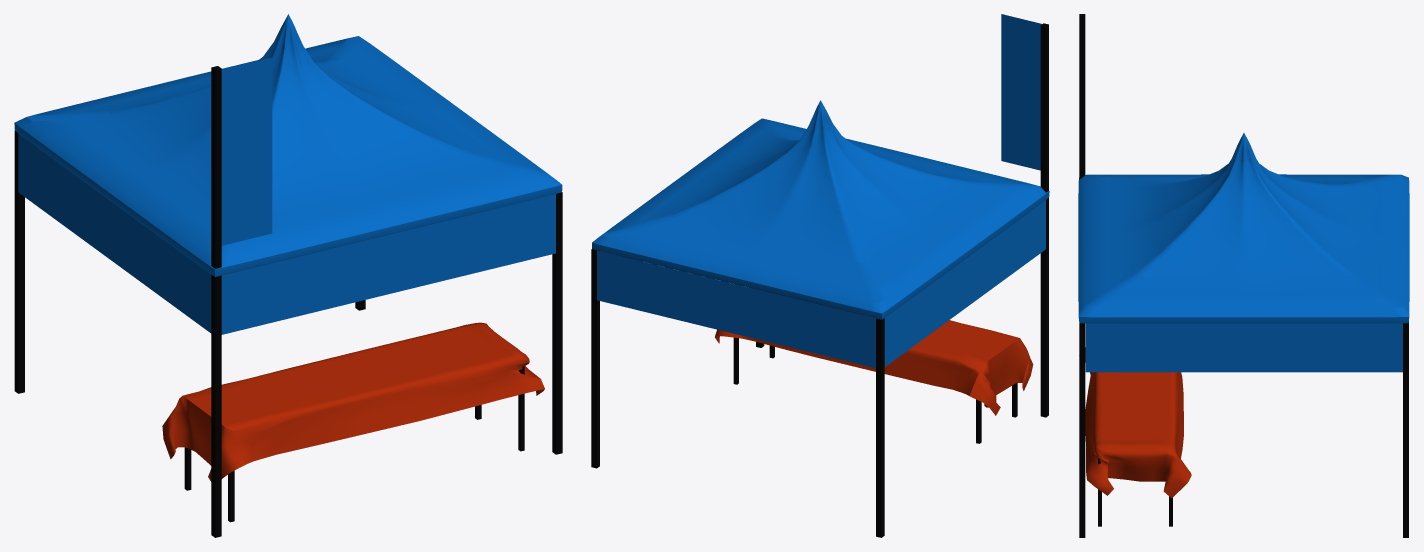
Rendered from Tent.fbx.
3 renders of one model, left to right at view 1: azimuth 30°, elevation 25°; view 2: azimuth 150°, elevation 25°; view 3: azimuth 270°, elevation 25°, orthographic. The views are drawn at different scales.
Visible parts, largest first — view 1: Object_82, Retopo_Plane.004, Plane.005, Cube.004; view 2: Object_82, Retopo_Plane.004, Plane.005, Cube.004; view 3: Object_82, Retopo_Plane.004, Plane.005.
Boxes of the visible parts, x1=… form: Object_82: x1=14, y1=14, x2=562, y2=537; Retopo_Plane.004: x1=162, y1=322, x2=544, y2=481; Plane.005: x1=211, y1=57, x2=272, y2=268; Cube.004: x1=184, y1=366, x2=524, y2=522; Object_82: x1=591, y1=100, x2=1049, y2=537; Retopo_Plane.004: x1=715, y1=316, x2=1033, y2=415; Plane.005: x1=1001, y1=14, x2=1048, y2=192; Cube.004: x1=733, y1=337, x2=1017, y2=443; Object_82: x1=1078, y1=133, x2=1409, y2=537; Retopo_Plane.004: x1=1085, y1=347, x2=1191, y2=498; Plane.005: x1=1079, y1=14, x2=1085, y2=179.
Bounding box in the file's own units: 380 × 487 × 380.
